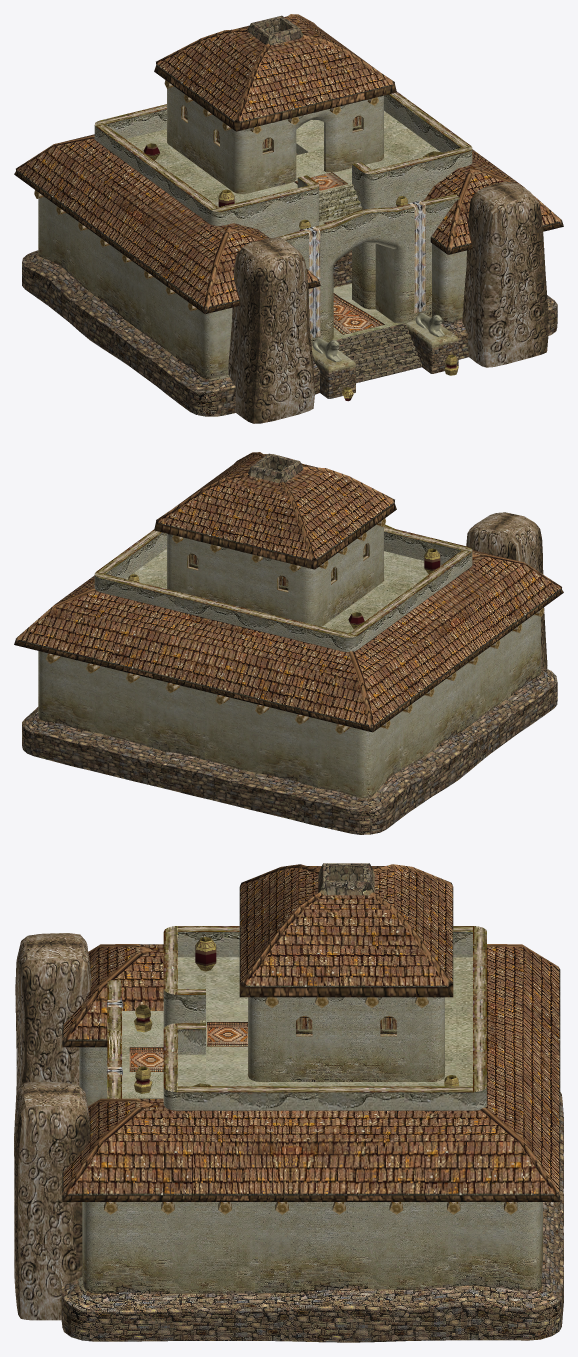
Rendered from iber_temple.dae.
3 views of the same model, one above another, from view 1: azimuth 30°, elevation 25°; view 2: azimuth 150°, elevation 25°; view 3: azimuth 270°, elevation 25° (orthographic). The views are drawn at different scales.
Parts seen in each view (by area): view 1: Geometry_MeshNode; view 2: Geometry_MeshNode; view 3: Geometry_MeshNode.
Part boxes in pixels (x1=…): Geometry_MeshNode: x1=14, y1=14, x2=563, y2=423; Geometry_MeshNode: x1=14, y1=452, x2=563, y2=834; Geometry_MeshNode: x1=14, y1=863, x2=563, y2=1342.
Bounding box in the file's own units: 20.6 × 14.48 × 20.47.
